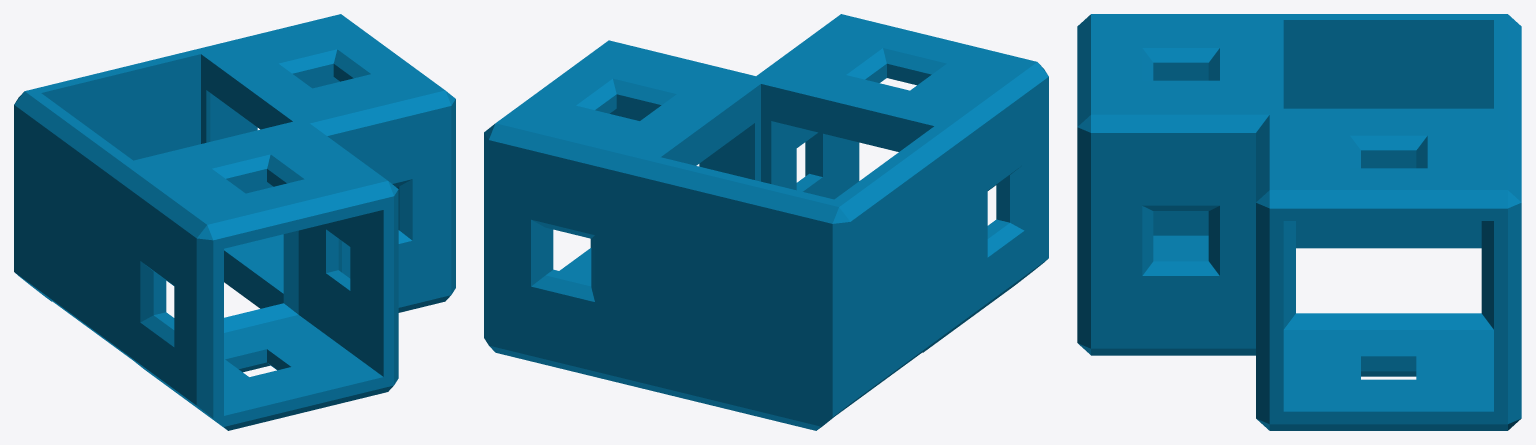
File: connector-2d2w-pt-y.glb
3 views of the same model, side by side, from view 1: azimuth 30°, elevation 25°; view 2: azimuth 150°, elevation 25°; view 3: azimuth 270°, elevation 25° (orthographic). The views are drawn at different scales.
Visible parts, largest first — view 1: connector-2d2w-pt-y.stl; view 2: connector-2d2w-pt-y.stl; view 3: connector-2d2w-pt-y.stl.
Boxes of the visible parts, x1=… form: connector-2d2w-pt-y.stl: x1=14, y1=14, x2=455, y2=430; connector-2d2w-pt-y.stl: x1=484, y1=14, x2=1048, y2=430; connector-2d2w-pt-y.stl: x1=1077, y1=14, x2=1521, y2=430.
Bounding box in the file's own units: 32.1 × 19.2 × 32.1.
